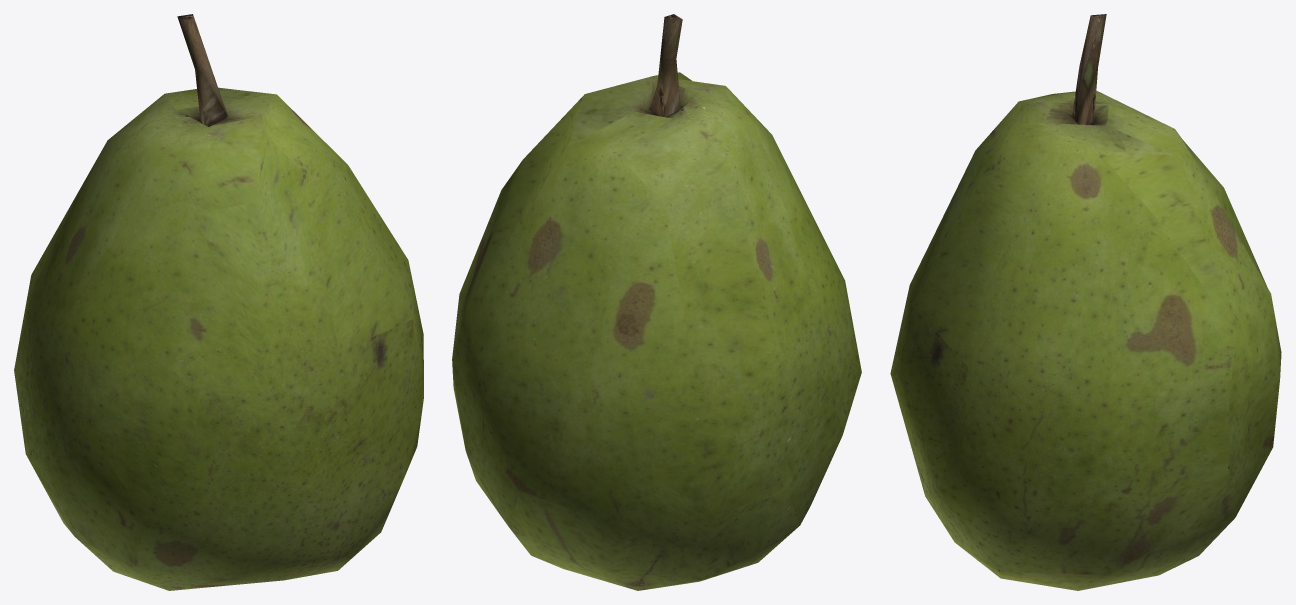
The picture shows the model from 3 angles, left to right: view 1: azimuth 30°, elevation 25°; view 2: azimuth 150°, elevation 25°; view 3: azimuth 270°, elevation 25°; orthographic projection. The views are drawn at different scales.
Visible parts, largest first — view 1: pear01_lr; view 2: pear01_lr; view 3: pear01_lr.
Boxes of the visible parts, x1,y1,x2,y2 form: pear01_lr: (14,14,423,590); pear01_lr: (452,14,861,590); pear01_lr: (890,14,1281,590).
Bounding box in the file's own units: 82.19 × 124 × 82.32.
